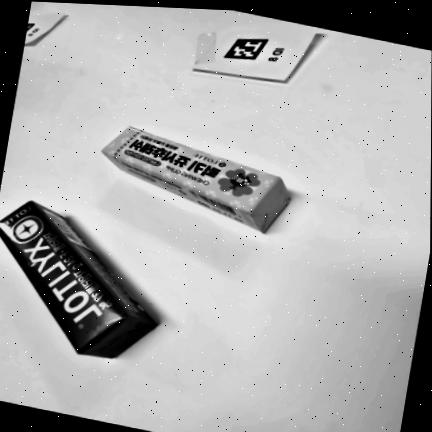gum_green: (0, 202, 157, 358)
gum_yellow: (102, 127, 289, 233)
